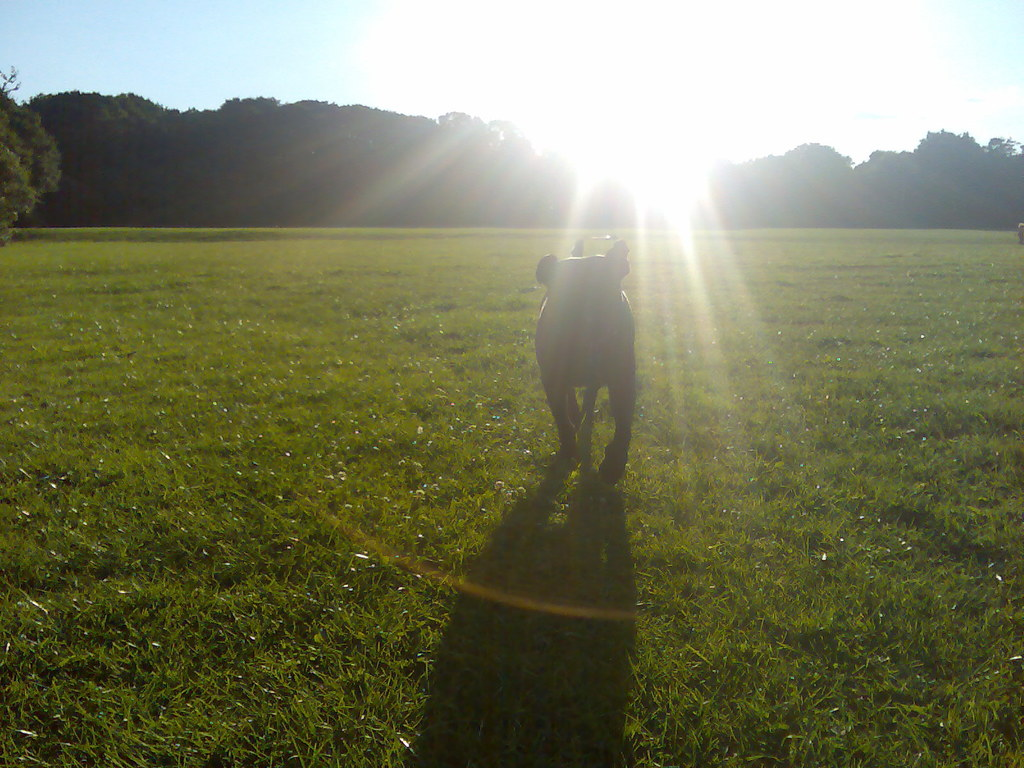Animal: (523, 235, 645, 499)
